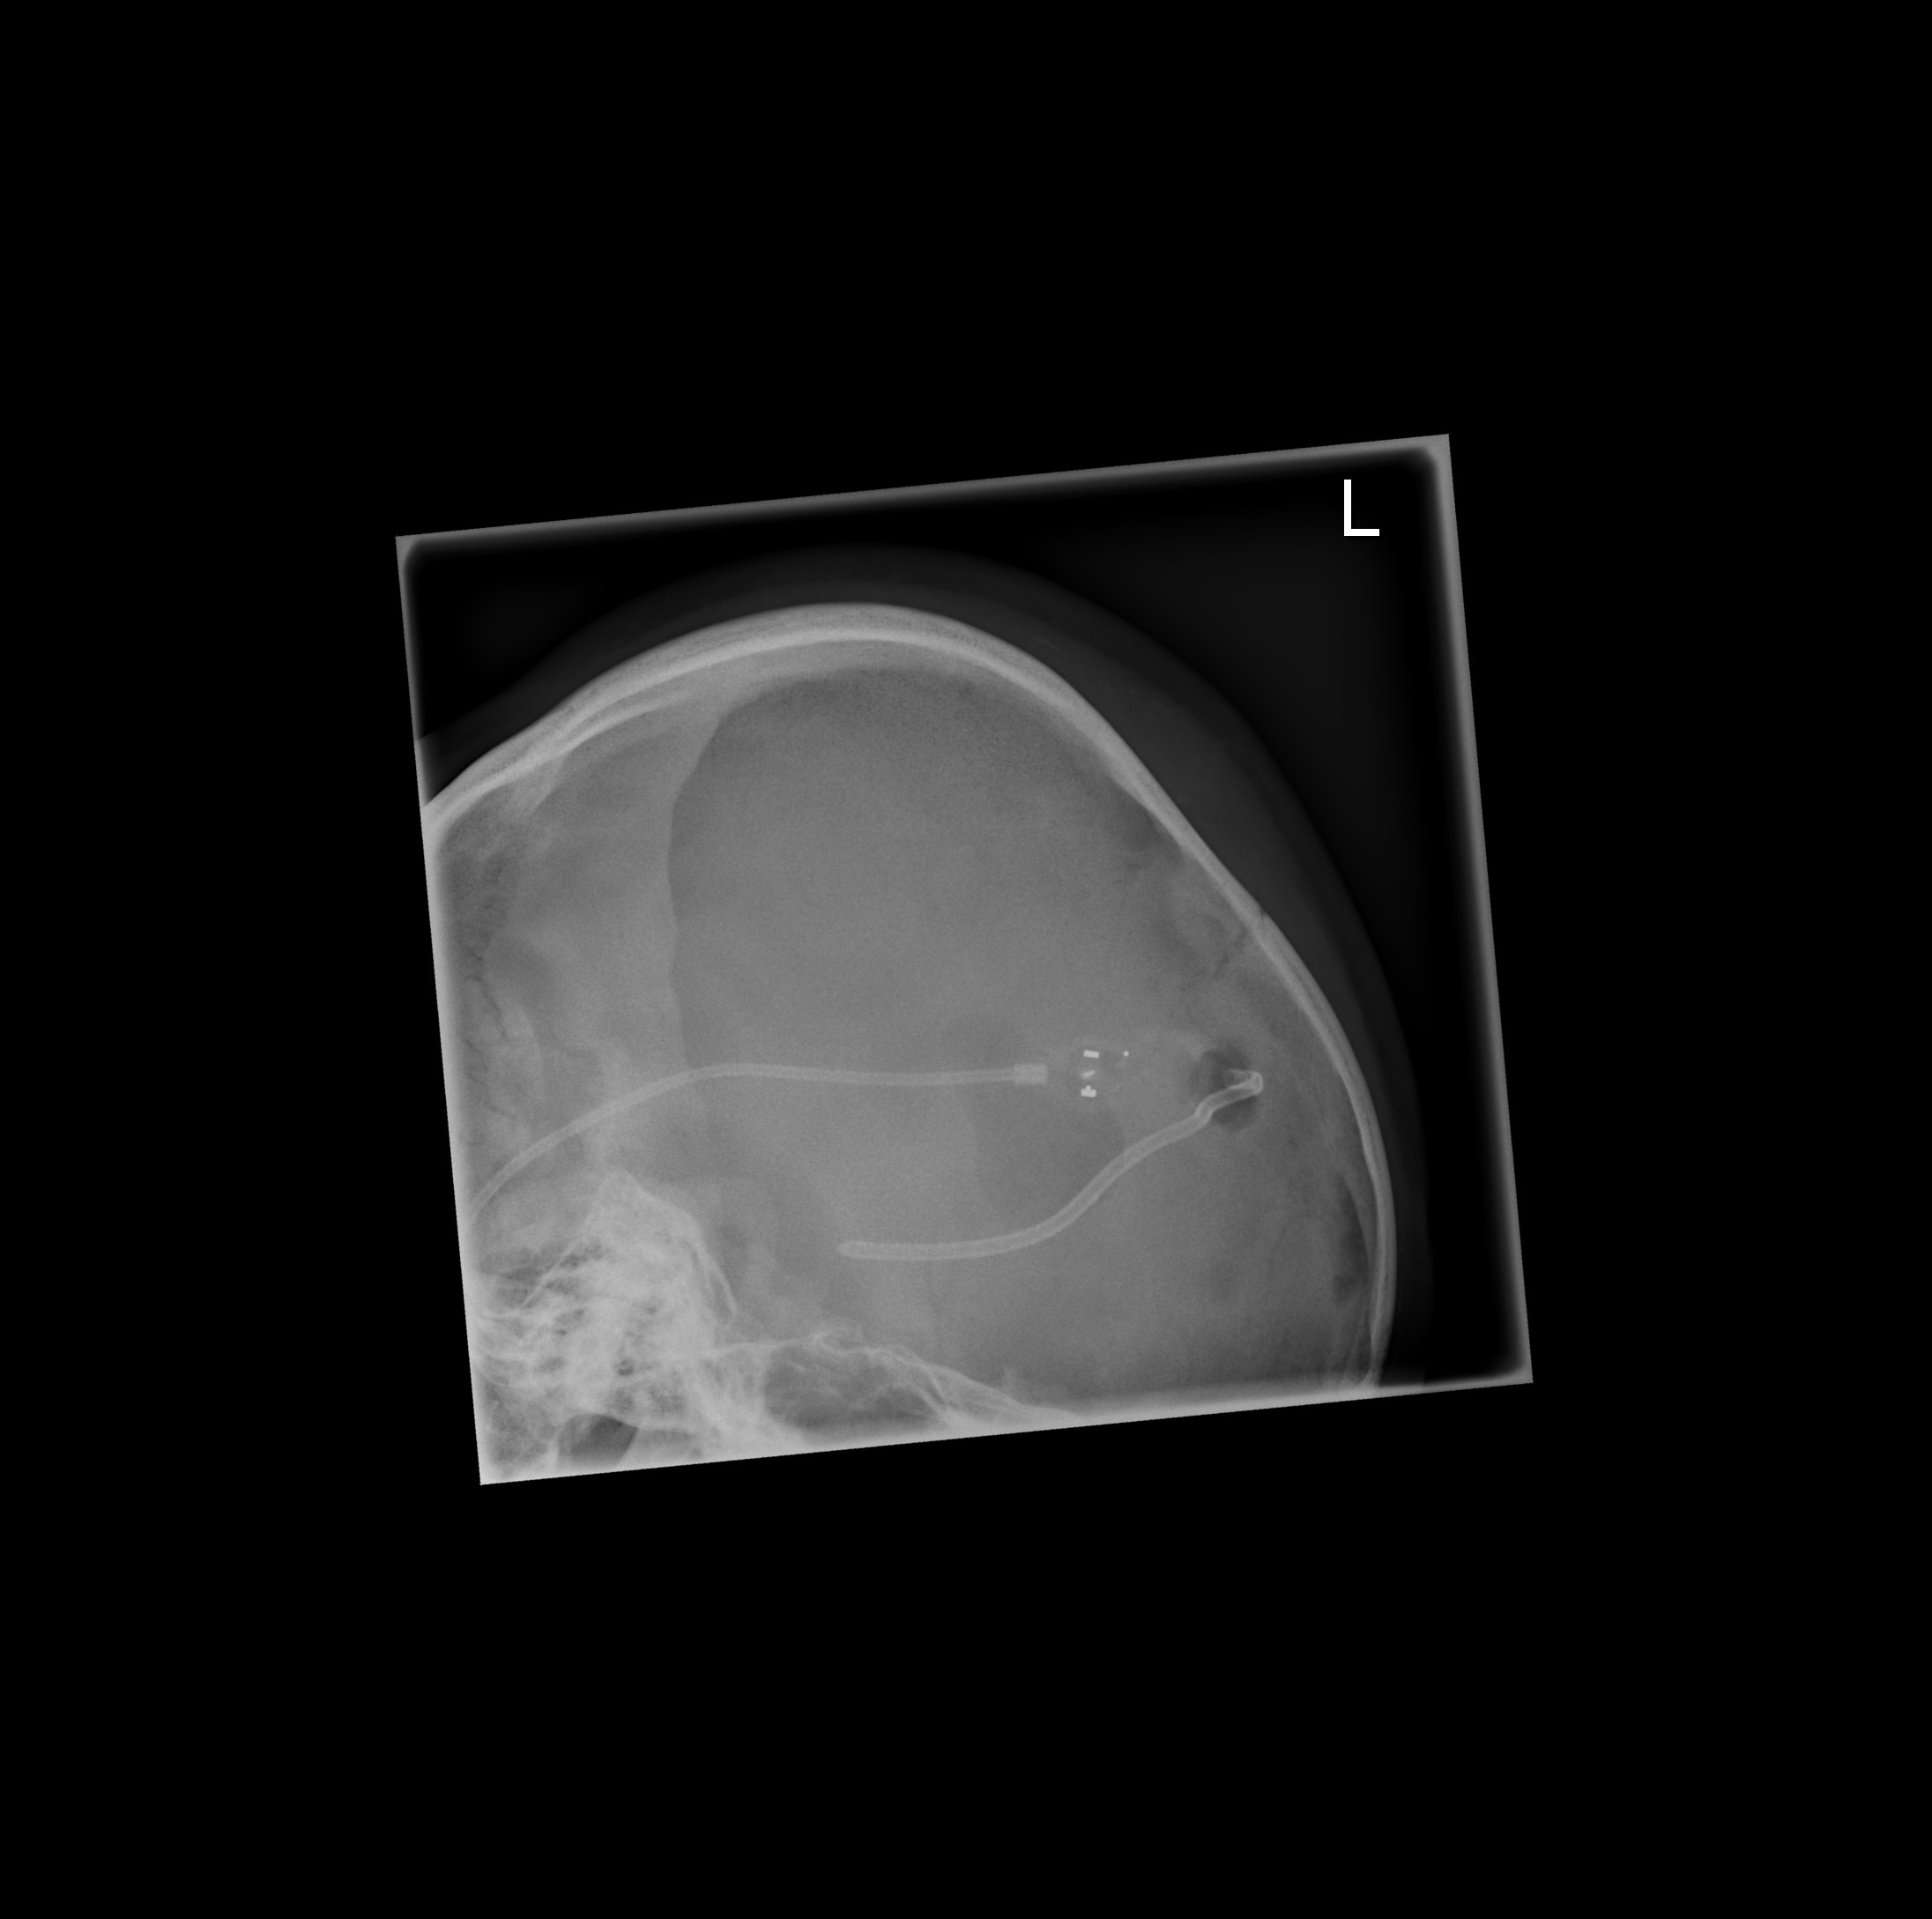Codman Certas: (1043, 1030, 1145, 1125)
